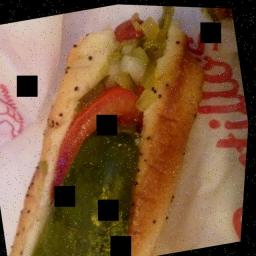hotdog: (112, 17, 146, 41)
